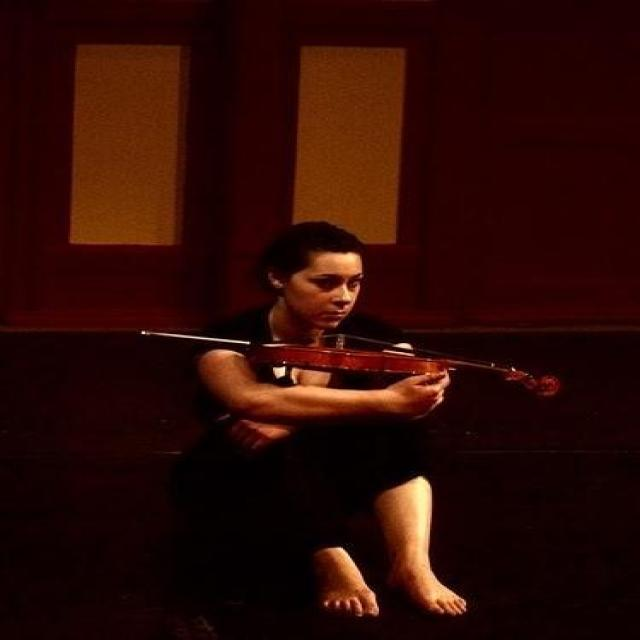violin: (247, 330, 566, 402)
